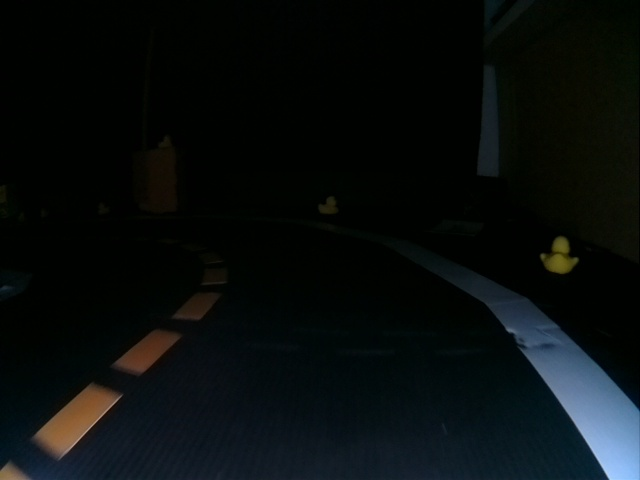Duckie: (539, 238, 579, 274), (318, 196, 338, 212), (158, 135, 170, 145), (97, 203, 107, 212)
